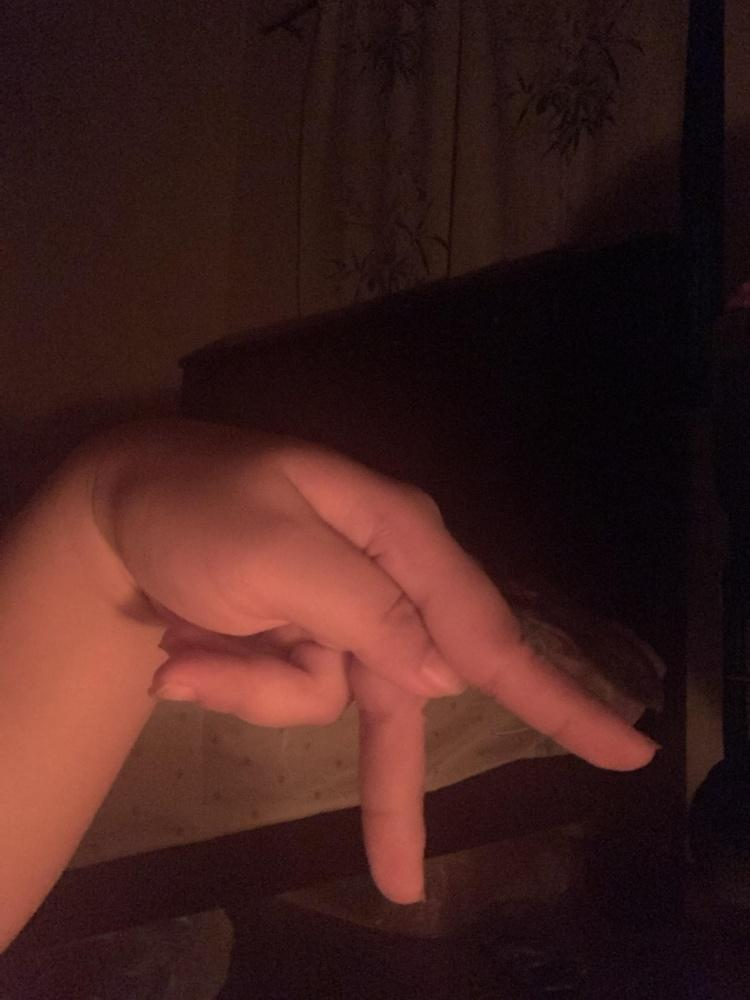p: (98, 410, 659, 907)
